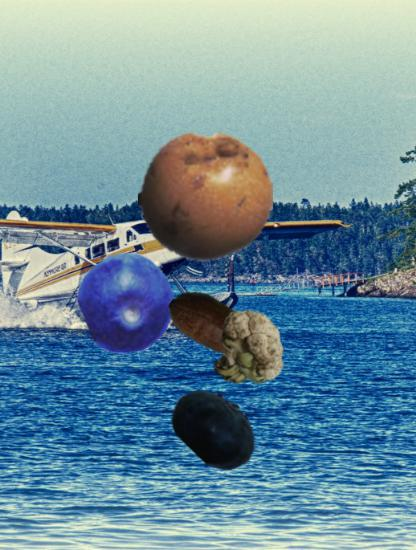Blueberry: (169, 382, 262, 475)
Cauliflower: (206, 310, 288, 392)
Granadilla: (138, 128, 273, 263)
Huckleberry: (77, 252, 178, 353)
Nut: (165, 277, 261, 373)
